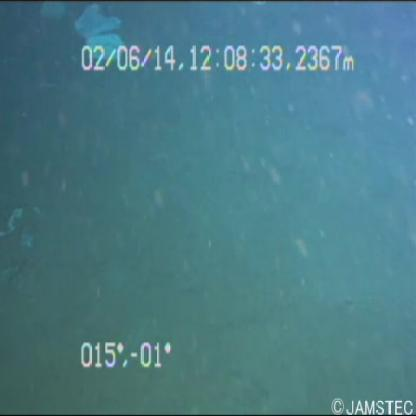Rác: (67, 1, 129, 68)
